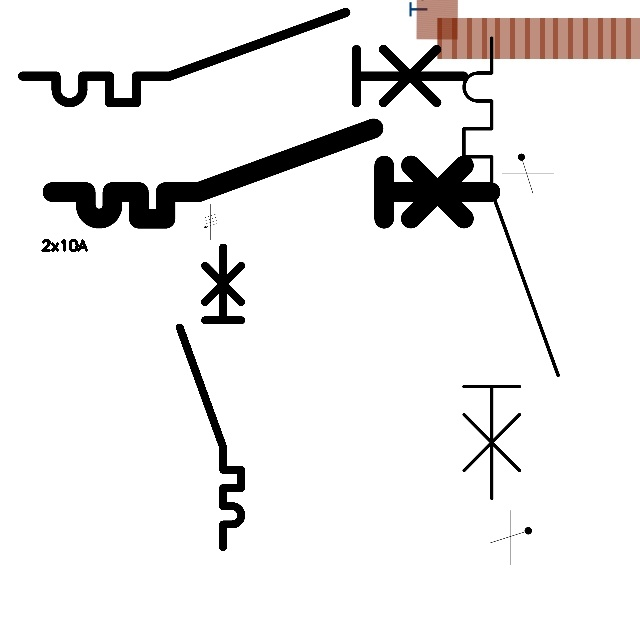interruptor_termomagnetico: (452, 26, 570, 510), (11, 1, 475, 114), (41, 117, 502, 230), (172, 239, 249, 555)
